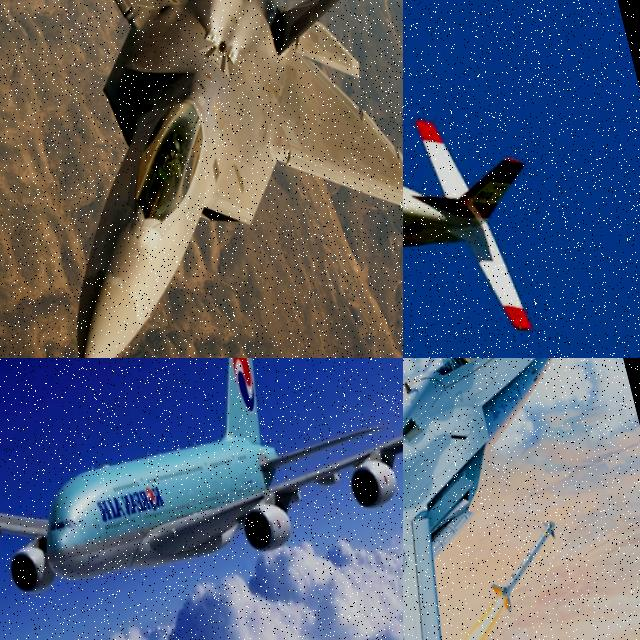A380: (0, 358, 403, 630)
F22: (0, 0, 403, 358), (403, 358, 640, 640)
KT-1: (403, 0, 587, 358)
